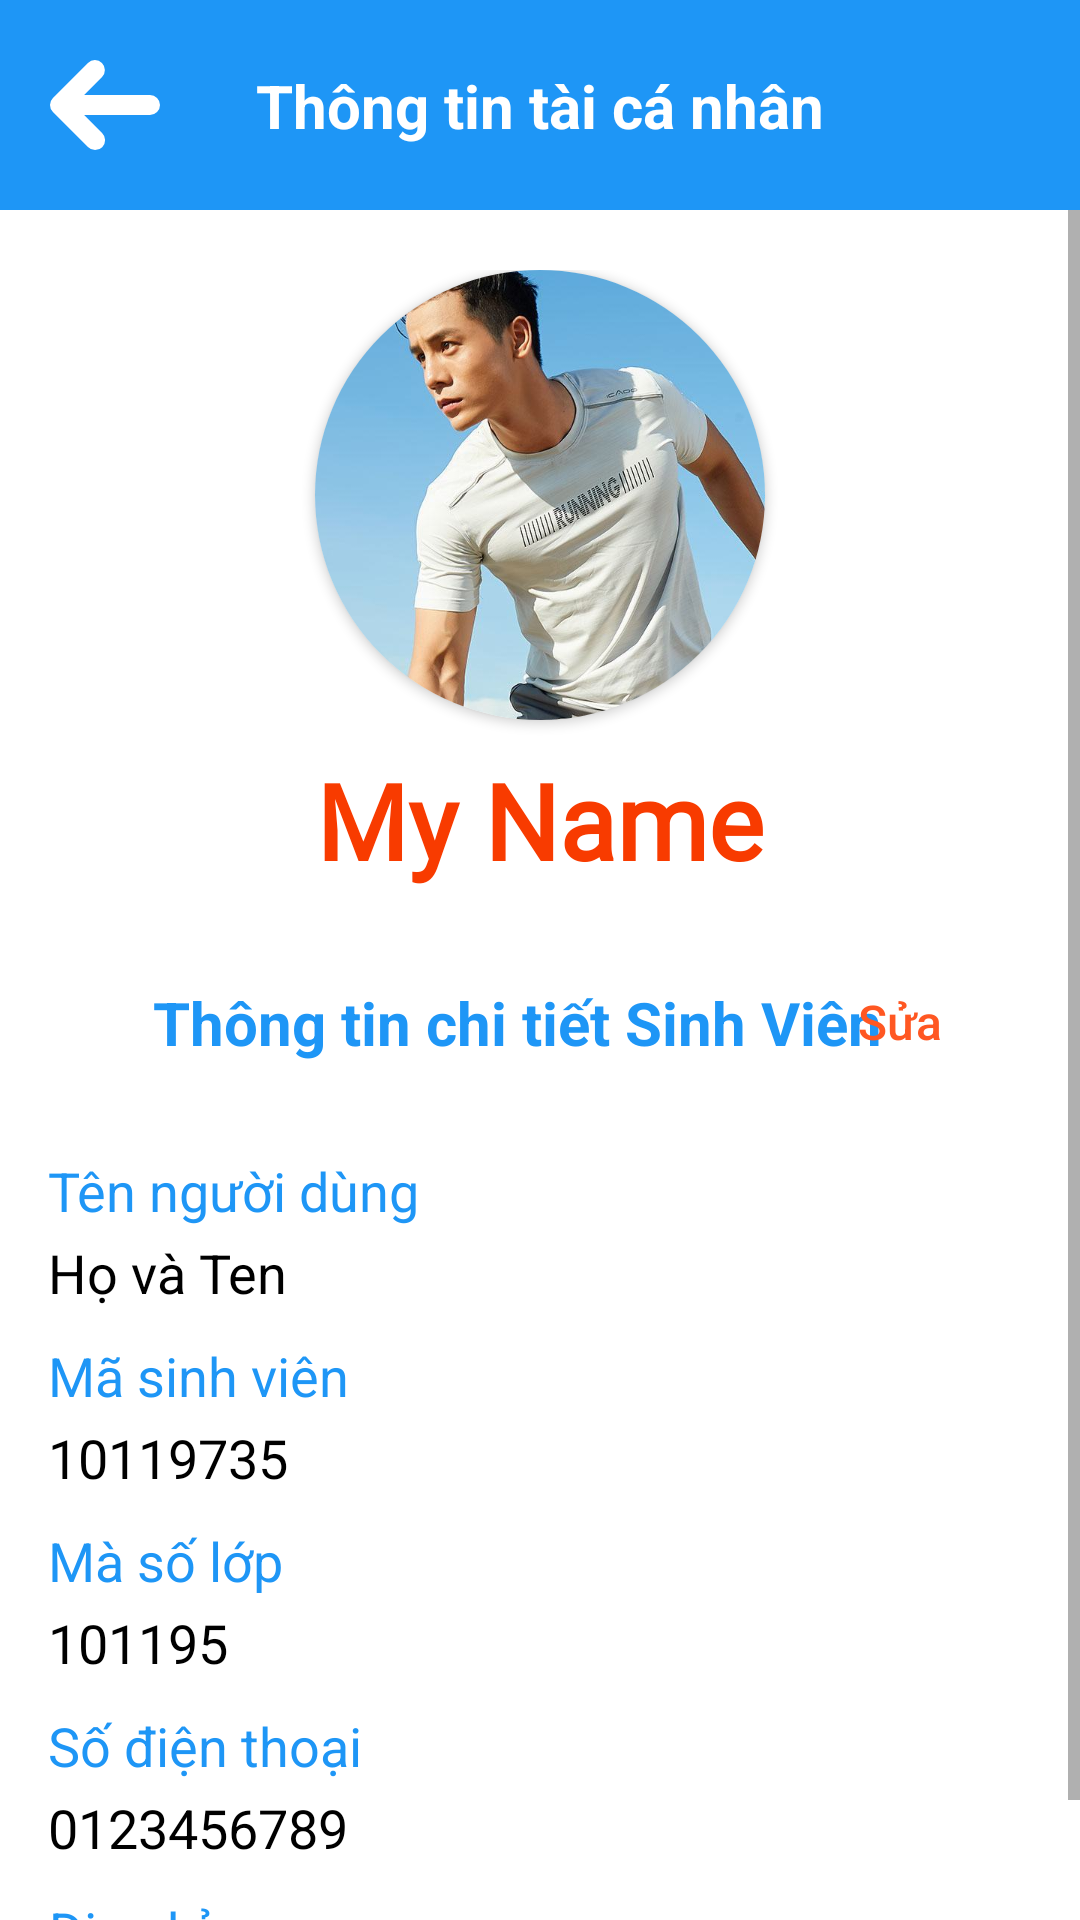

Icons on this 1080*1920 Android screen, each with the point to tap as (x=x, y=y):
left: (x=105, y=105)
